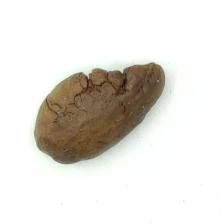NG: (76, 58, 158, 104)
